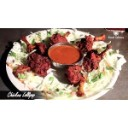chicken_lollipop: (12, 55, 52, 81), (17, 31, 48, 55), (86, 47, 117, 69), (66, 64, 86, 97), (78, 32, 109, 49), (49, 30, 72, 44)
